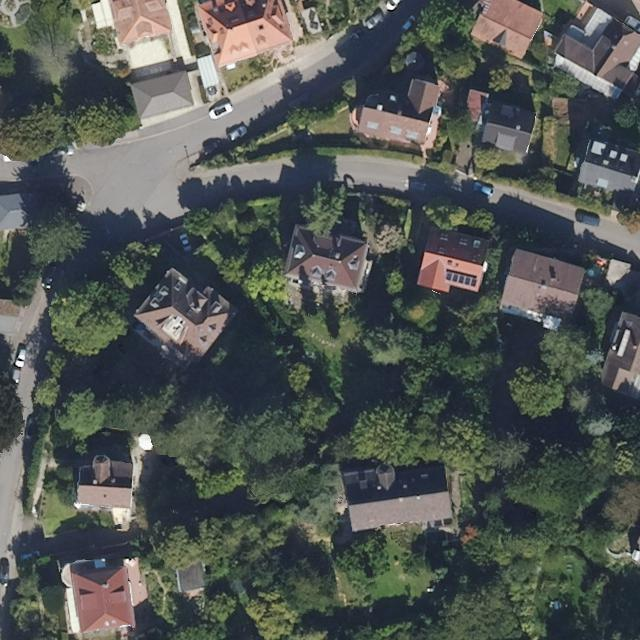PV: (445, 271, 473, 287)
